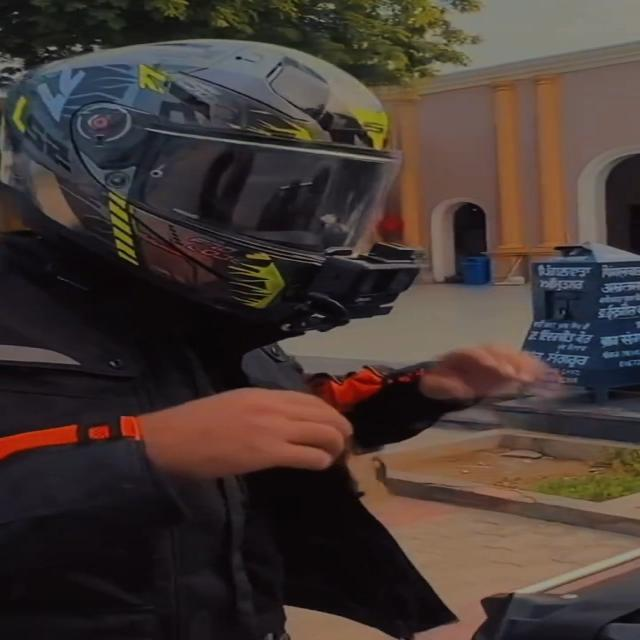Helmet_Wearer: (0, 45, 431, 336)
Jacket_Wearer: (5, 234, 495, 637)
Person: (0, 36, 449, 640)
